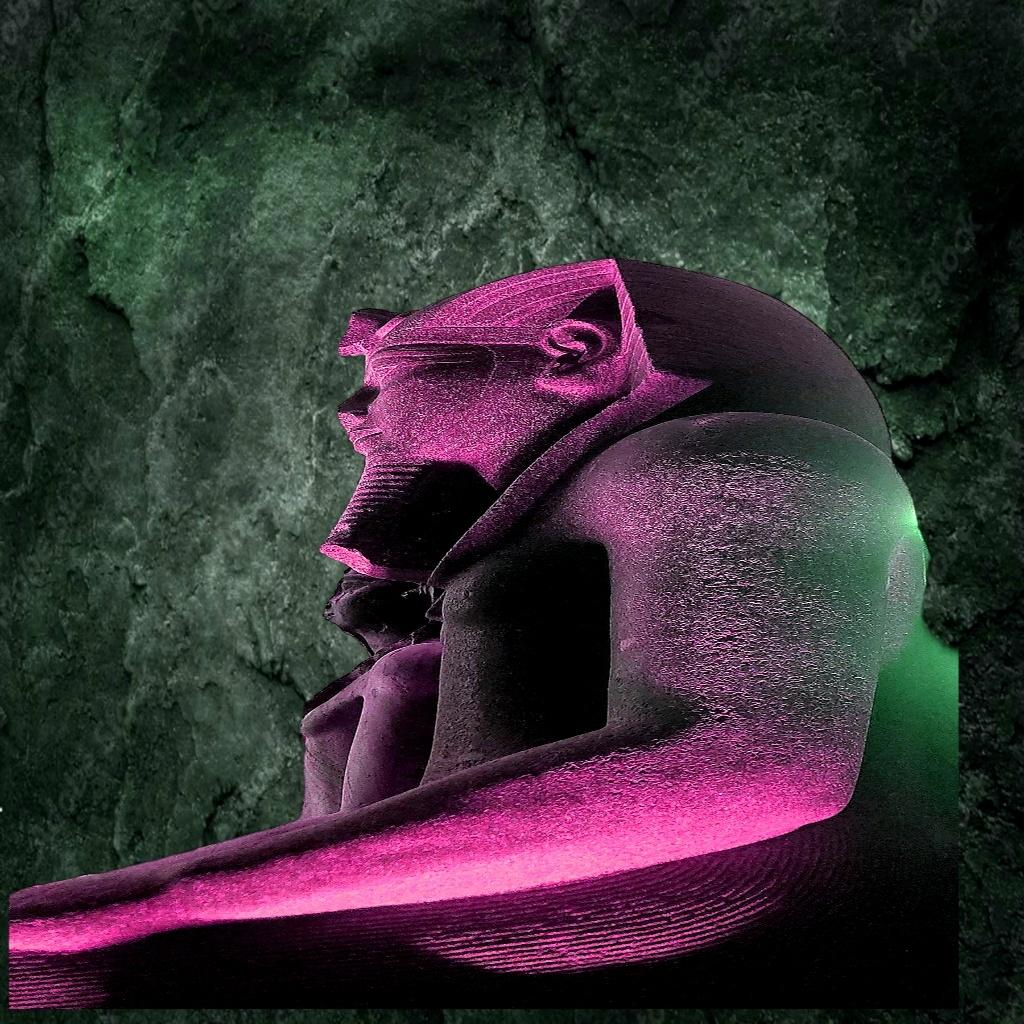Seated Statue of Amenhotep III: (10, 252, 958, 1010)
